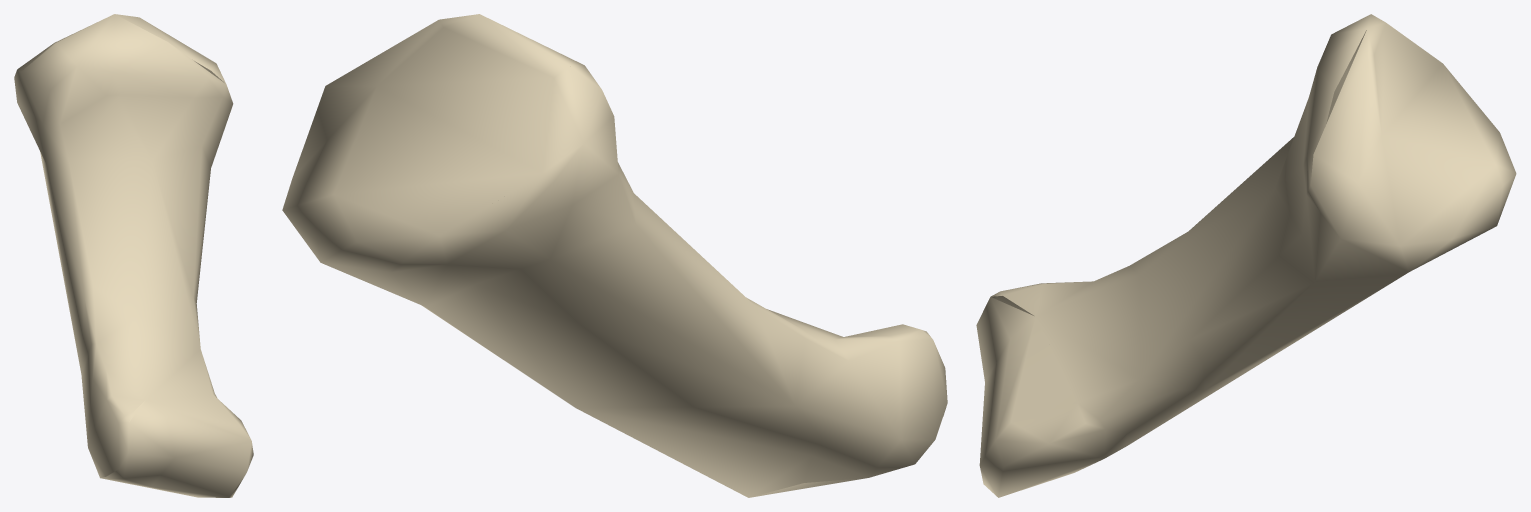
The model's file is esqueleto-middle-phalanx-of-second-finger-of-hand-r.glb.
3 views of the same model, side by side, from view 1: azimuth 30°, elevation 25°; view 2: azimuth 150°, elevation 25°; view 3: azimuth 270°, elevation 25° (orthographic). The views are drawn at different scales.
Visible parts, largest first — view 1: Middle phalanx of second finger of hand.r; view 2: Middle phalanx of second finger of hand.r; view 3: Middle phalanx of second finger of hand.r.
Boxes of the visible parts, x1=… form: Middle phalanx of second finger of hand.r: x1=14, y1=14, x2=253, y2=497; Middle phalanx of second finger of hand.r: x1=282, y1=14, x2=947, y2=497; Middle phalanx of second finger of hand.r: x1=976, y1=14, x2=1516, y2=497.
Size of the model in its own units: 0.0151 by 0.0213 by 0.0215.
